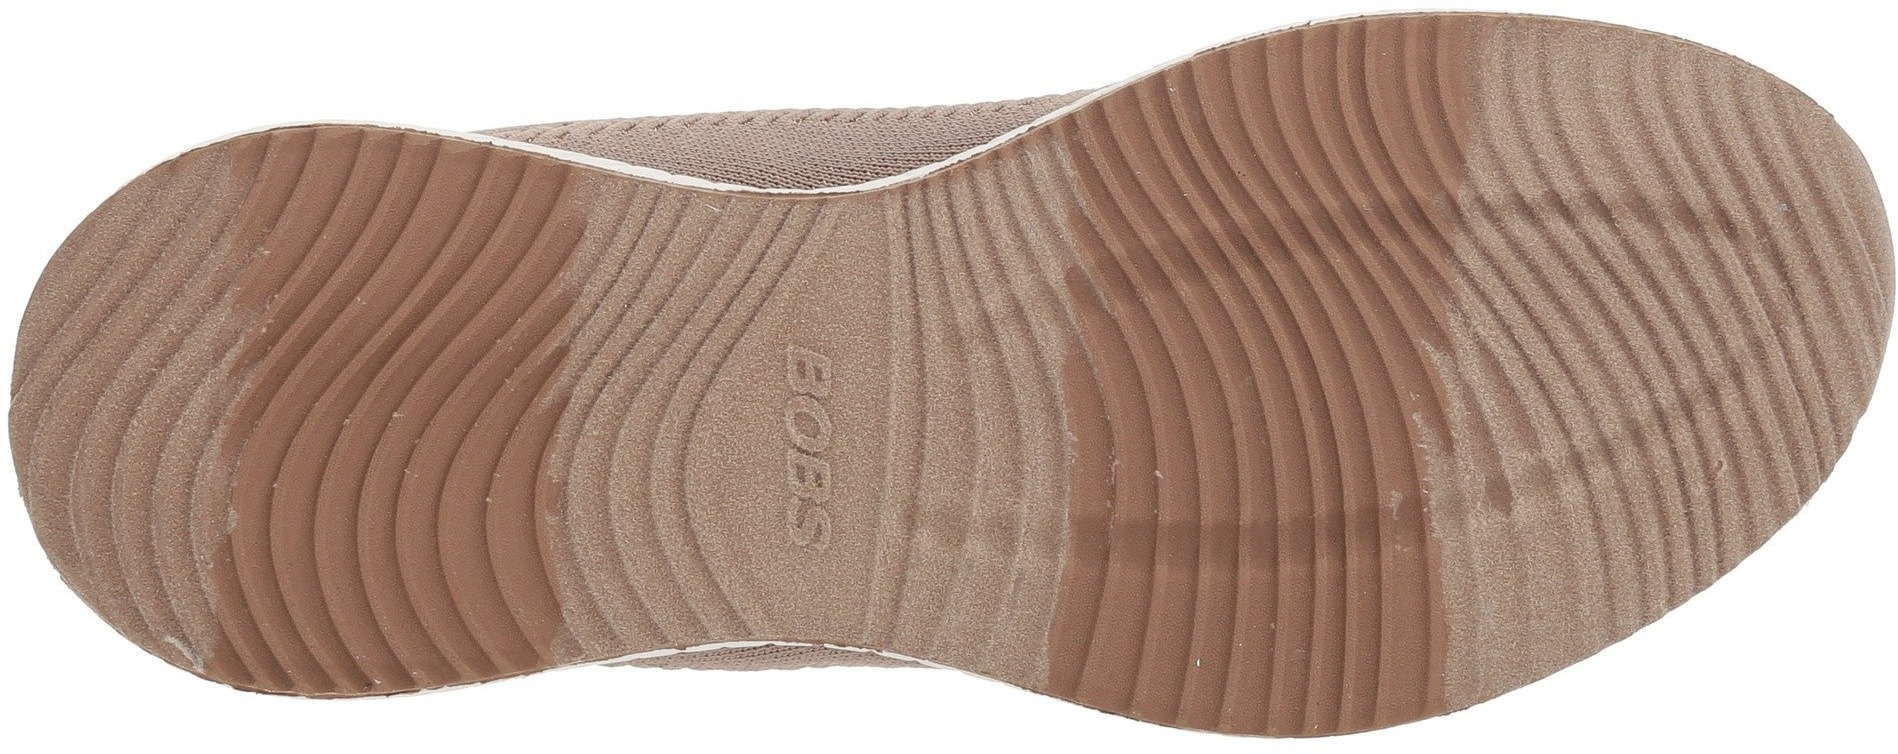line: (1482, 90, 1821, 421), (1087, 405, 1391, 687), (1111, 102, 1413, 378), (257, 409, 510, 645), (268, 180, 510, 413), (28, 310, 215, 502), (1491, 421, 1676, 594), (579, 217, 760, 388), (872, 427, 1047, 589), (569, 425, 740, 583)
text: (760, 349, 859, 448), (760, 451, 857, 549)
